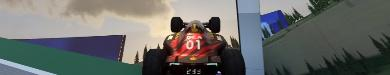Car: (141, 16, 245, 74)
obstacles-Borders: (0, 0, 389, 74)
